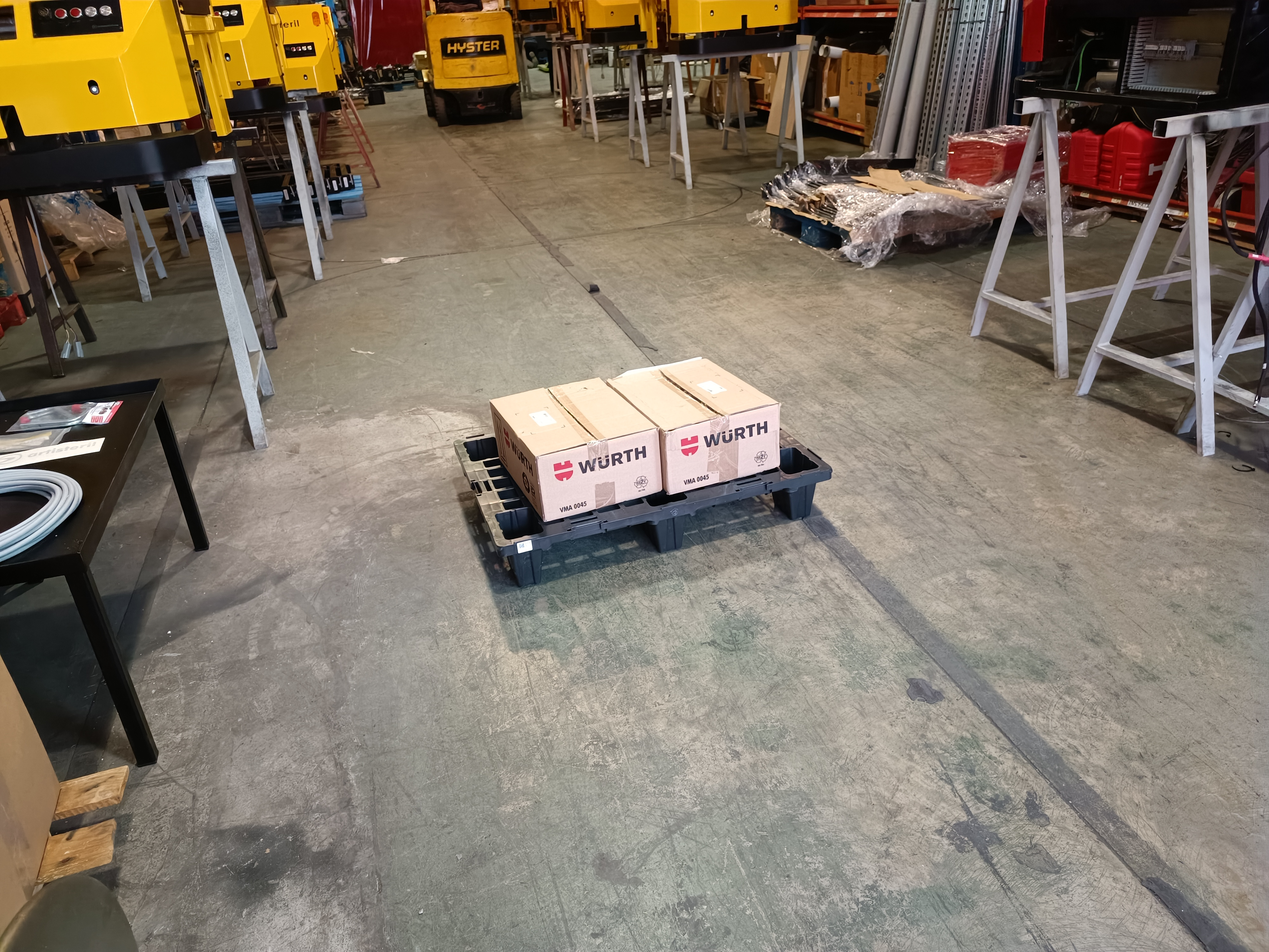block: (503, 533, 547, 589), (782, 469, 820, 517), (656, 506, 684, 553)
front: (496, 467, 835, 591)
hole pallet: (541, 523, 664, 582), (684, 485, 791, 546)
